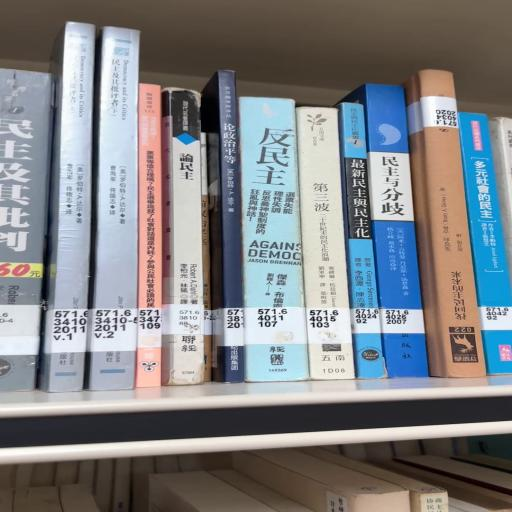book: (339, 85, 430, 379), (38, 23, 96, 393), (239, 98, 310, 383), (85, 27, 140, 391), (297, 108, 356, 380), (460, 114, 512, 375), (163, 88, 205, 386)
reverse: (404, 71, 487, 378)
